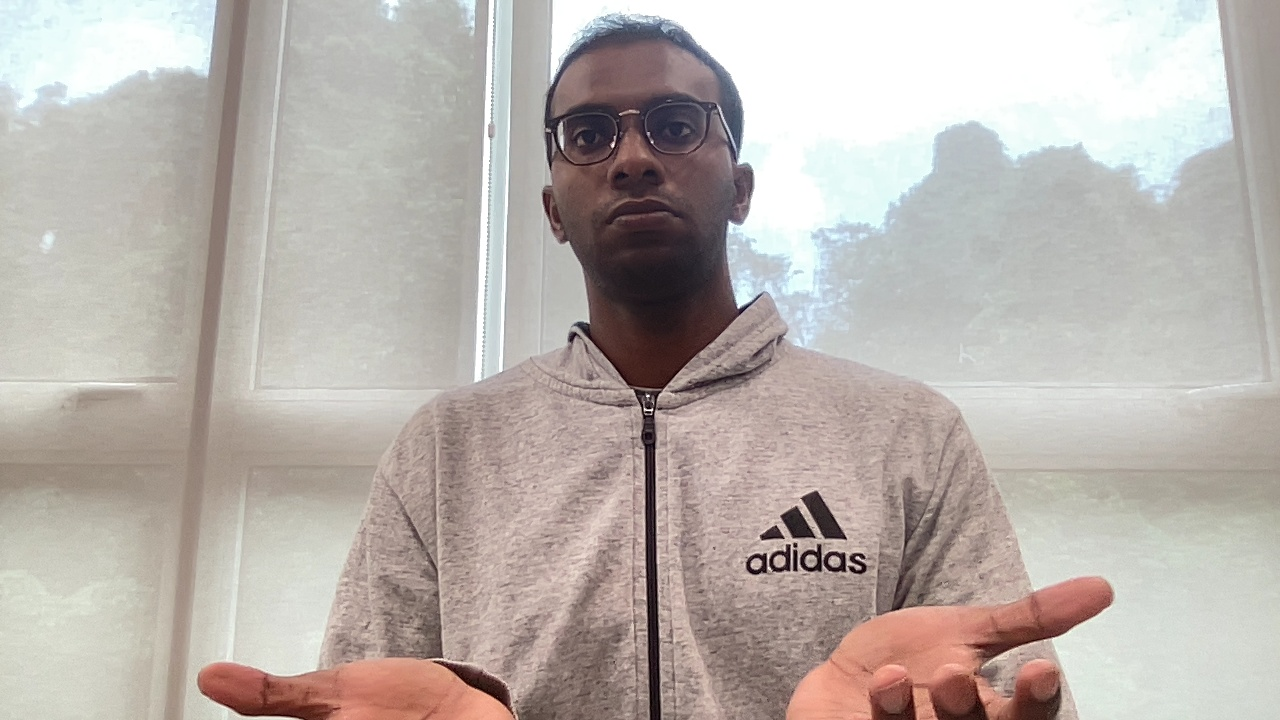give: (180, 570, 1124, 720)
